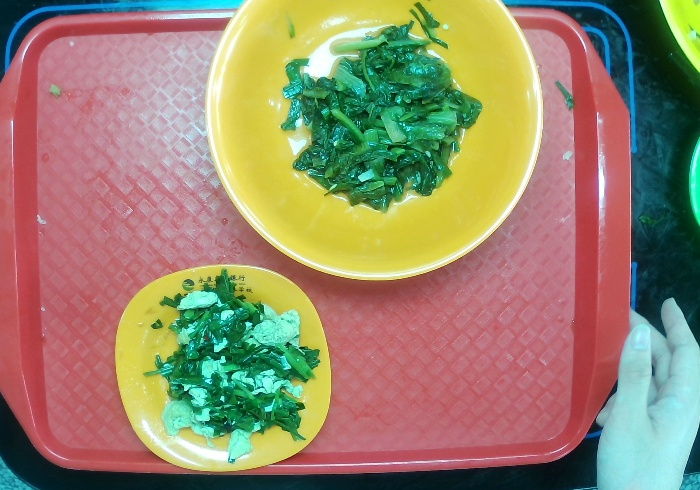YKMZ-Ju_Se_Fang_Die: (111, 263, 333, 471)
YKMZ-Ju_Se_Tang_Wan: (203, 1, 541, 281)
